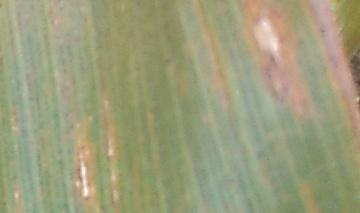tarspot: (316, 22, 327, 37), (266, 50, 276, 66)
